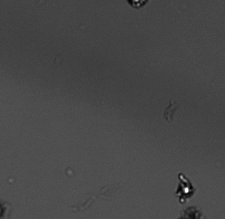Dead Cell: (126, 1, 151, 8)
Living Cell: (179, 179, 193, 198)
